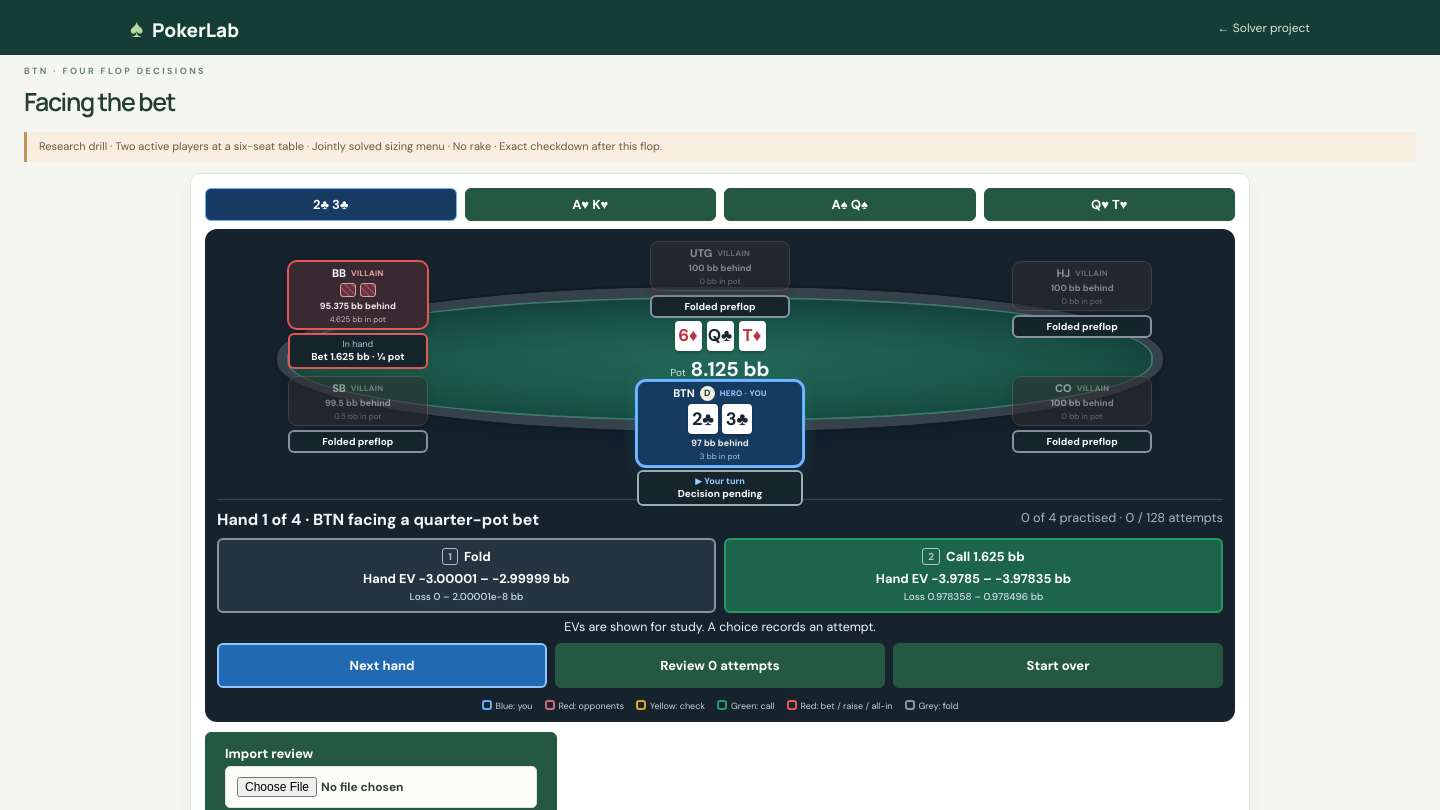
Test: shows and plays both choices for source hand 0 at the table
Check: the element named "Your cards" reads "2♣ 3♣", box [688,404,752,434]
Check: the element named "Flop board" reads "6♦ Q♣ T♦", box [674,321,766,351]
Press 2
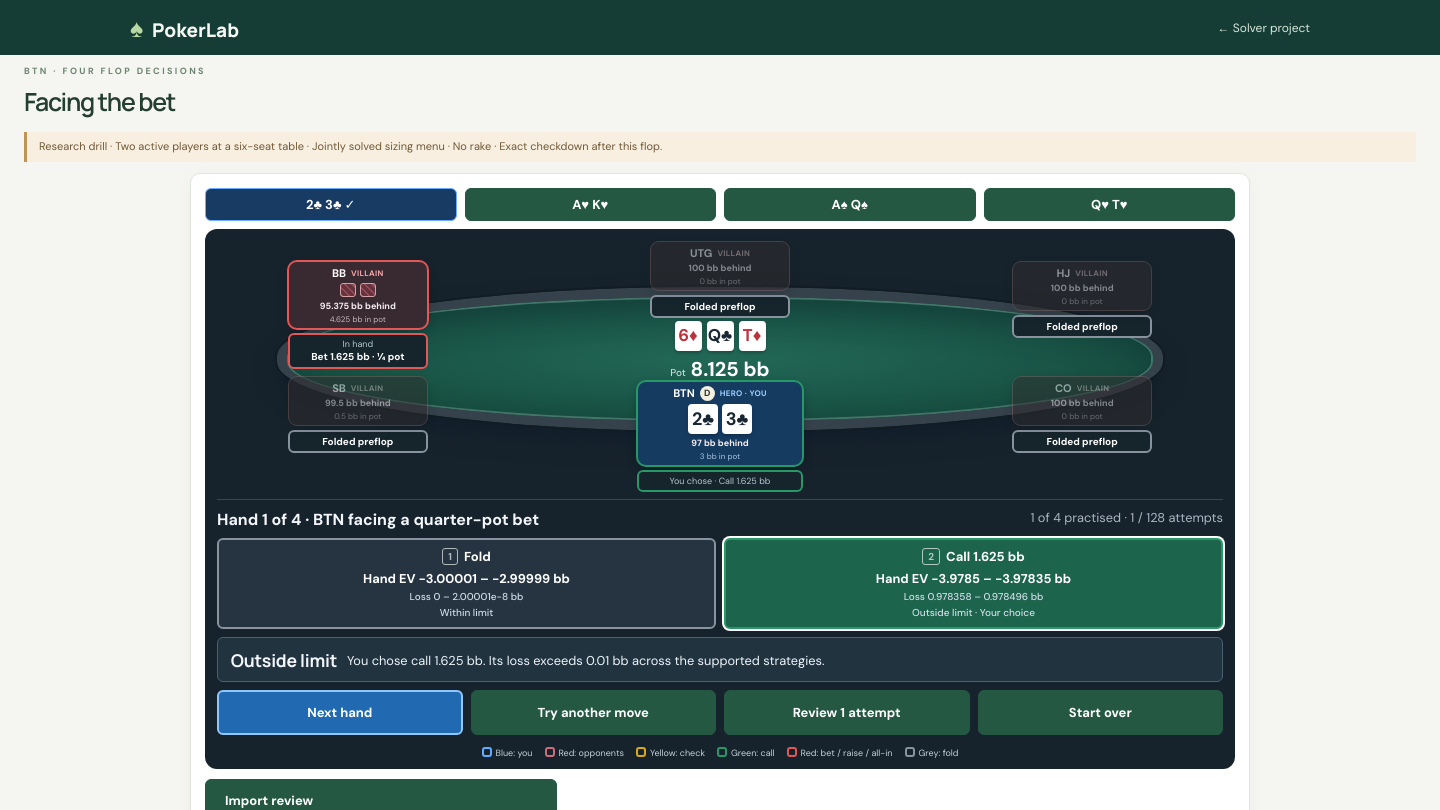
Check: the element named "Next hand" is shown, box [217,499,1223,737]
Check: the heading "Outside limit" is shown, box [231,648,337,672]
Check: the element named "BTN player" shows "You chose · Call 1.625 bb", box [670,475,770,487]
Click the button "Try another move".
click(593, 713)  # box [470,690,716,735]
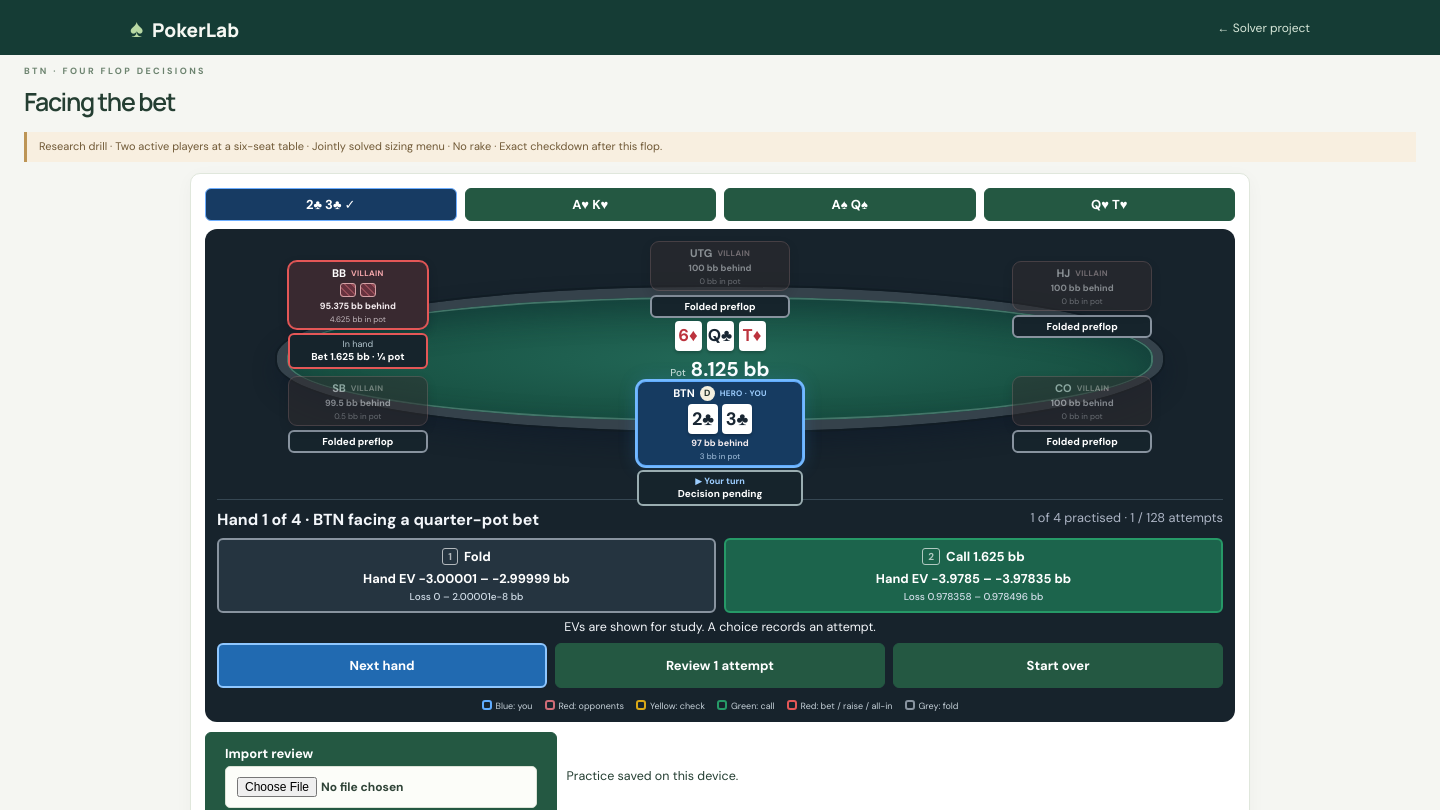
Click the button "Fold".
click(466, 576)  # box [217,538,716,613]
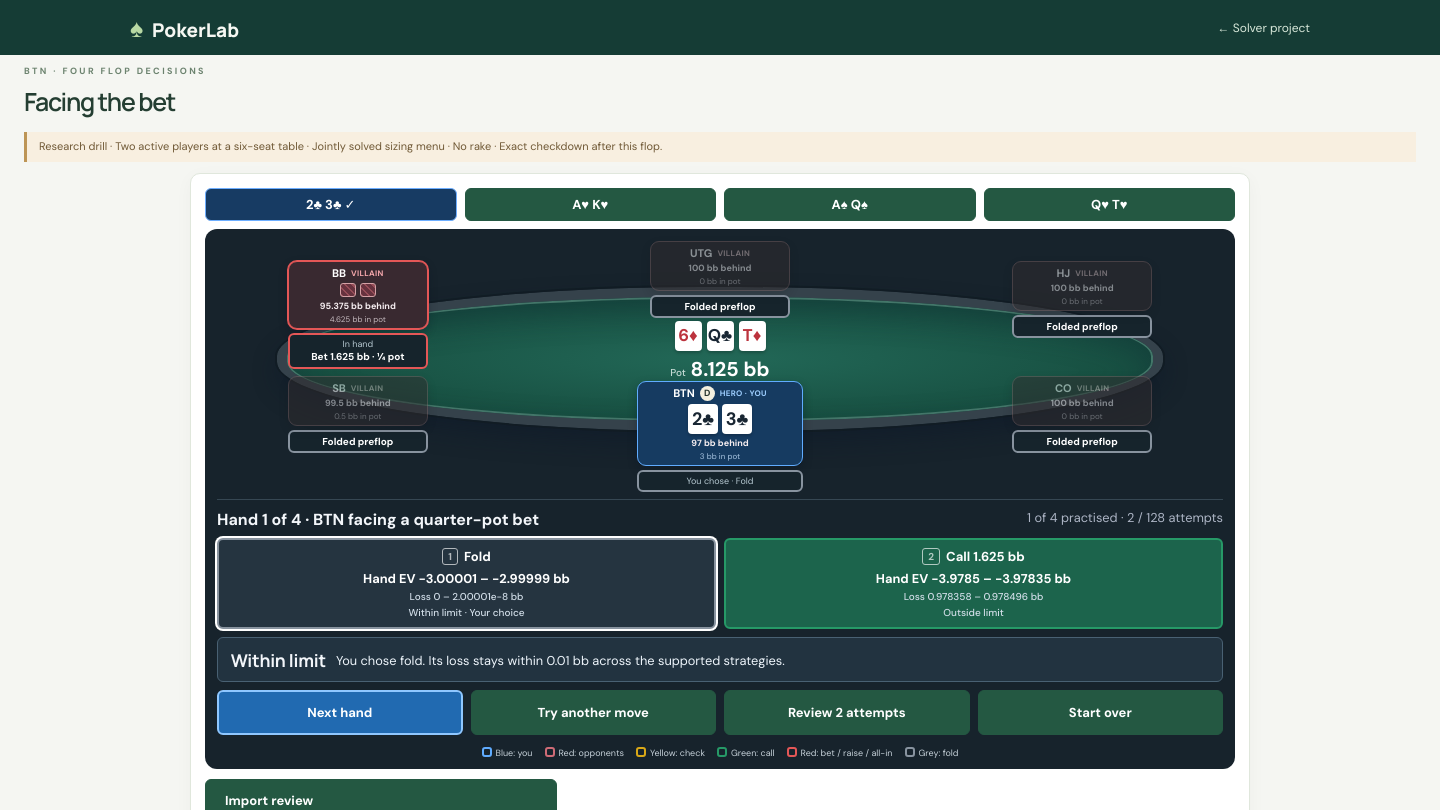
Check: the heading "Within limit" is shown, box [231,648,326,672]
